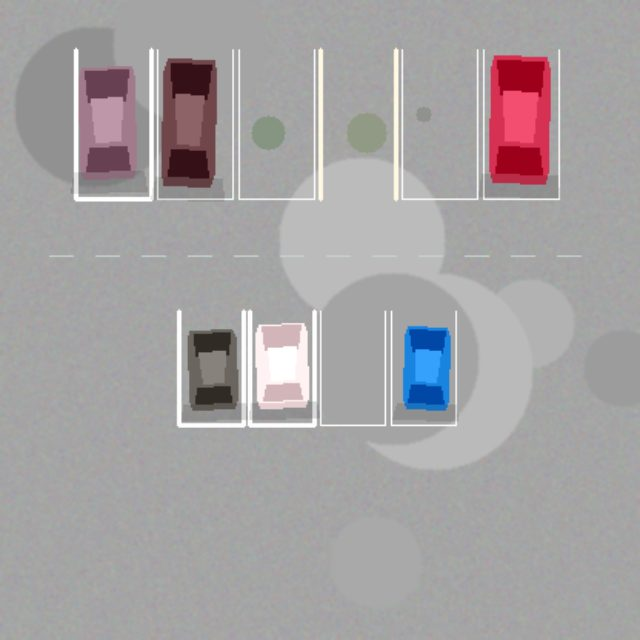space-empty: (238, 49, 314, 198), (320, 49, 395, 198), (402, 49, 477, 198), (320, 311, 385, 425)
space-occupied: (75, 49, 151, 198), (157, 49, 232, 198), (483, 49, 558, 198), (178, 311, 243, 425), (249, 311, 314, 425), (391, 311, 455, 425)
